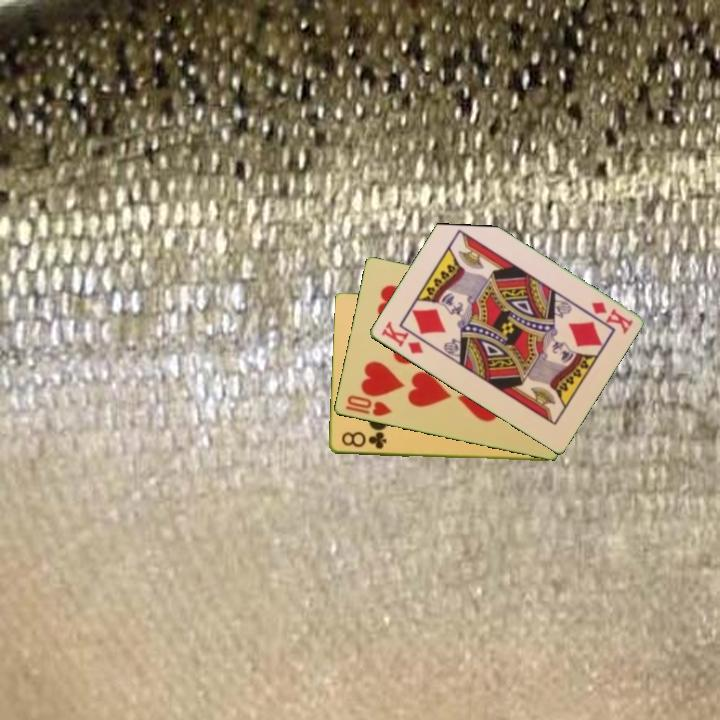10h: (341, 392, 395, 419)
8c: (338, 428, 390, 452)
Kd: (377, 318, 426, 357), (587, 298, 636, 336)
